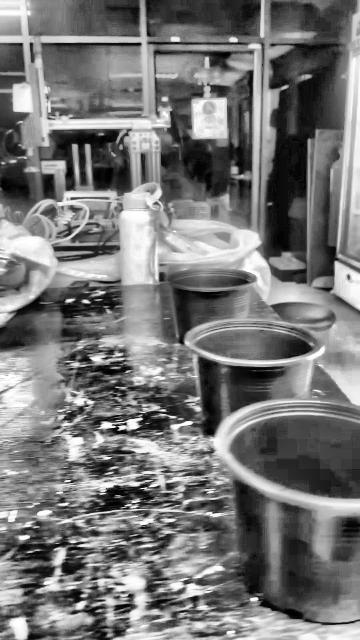pot: (228, 401, 360, 622), (185, 319, 323, 435), (167, 267, 255, 343)
